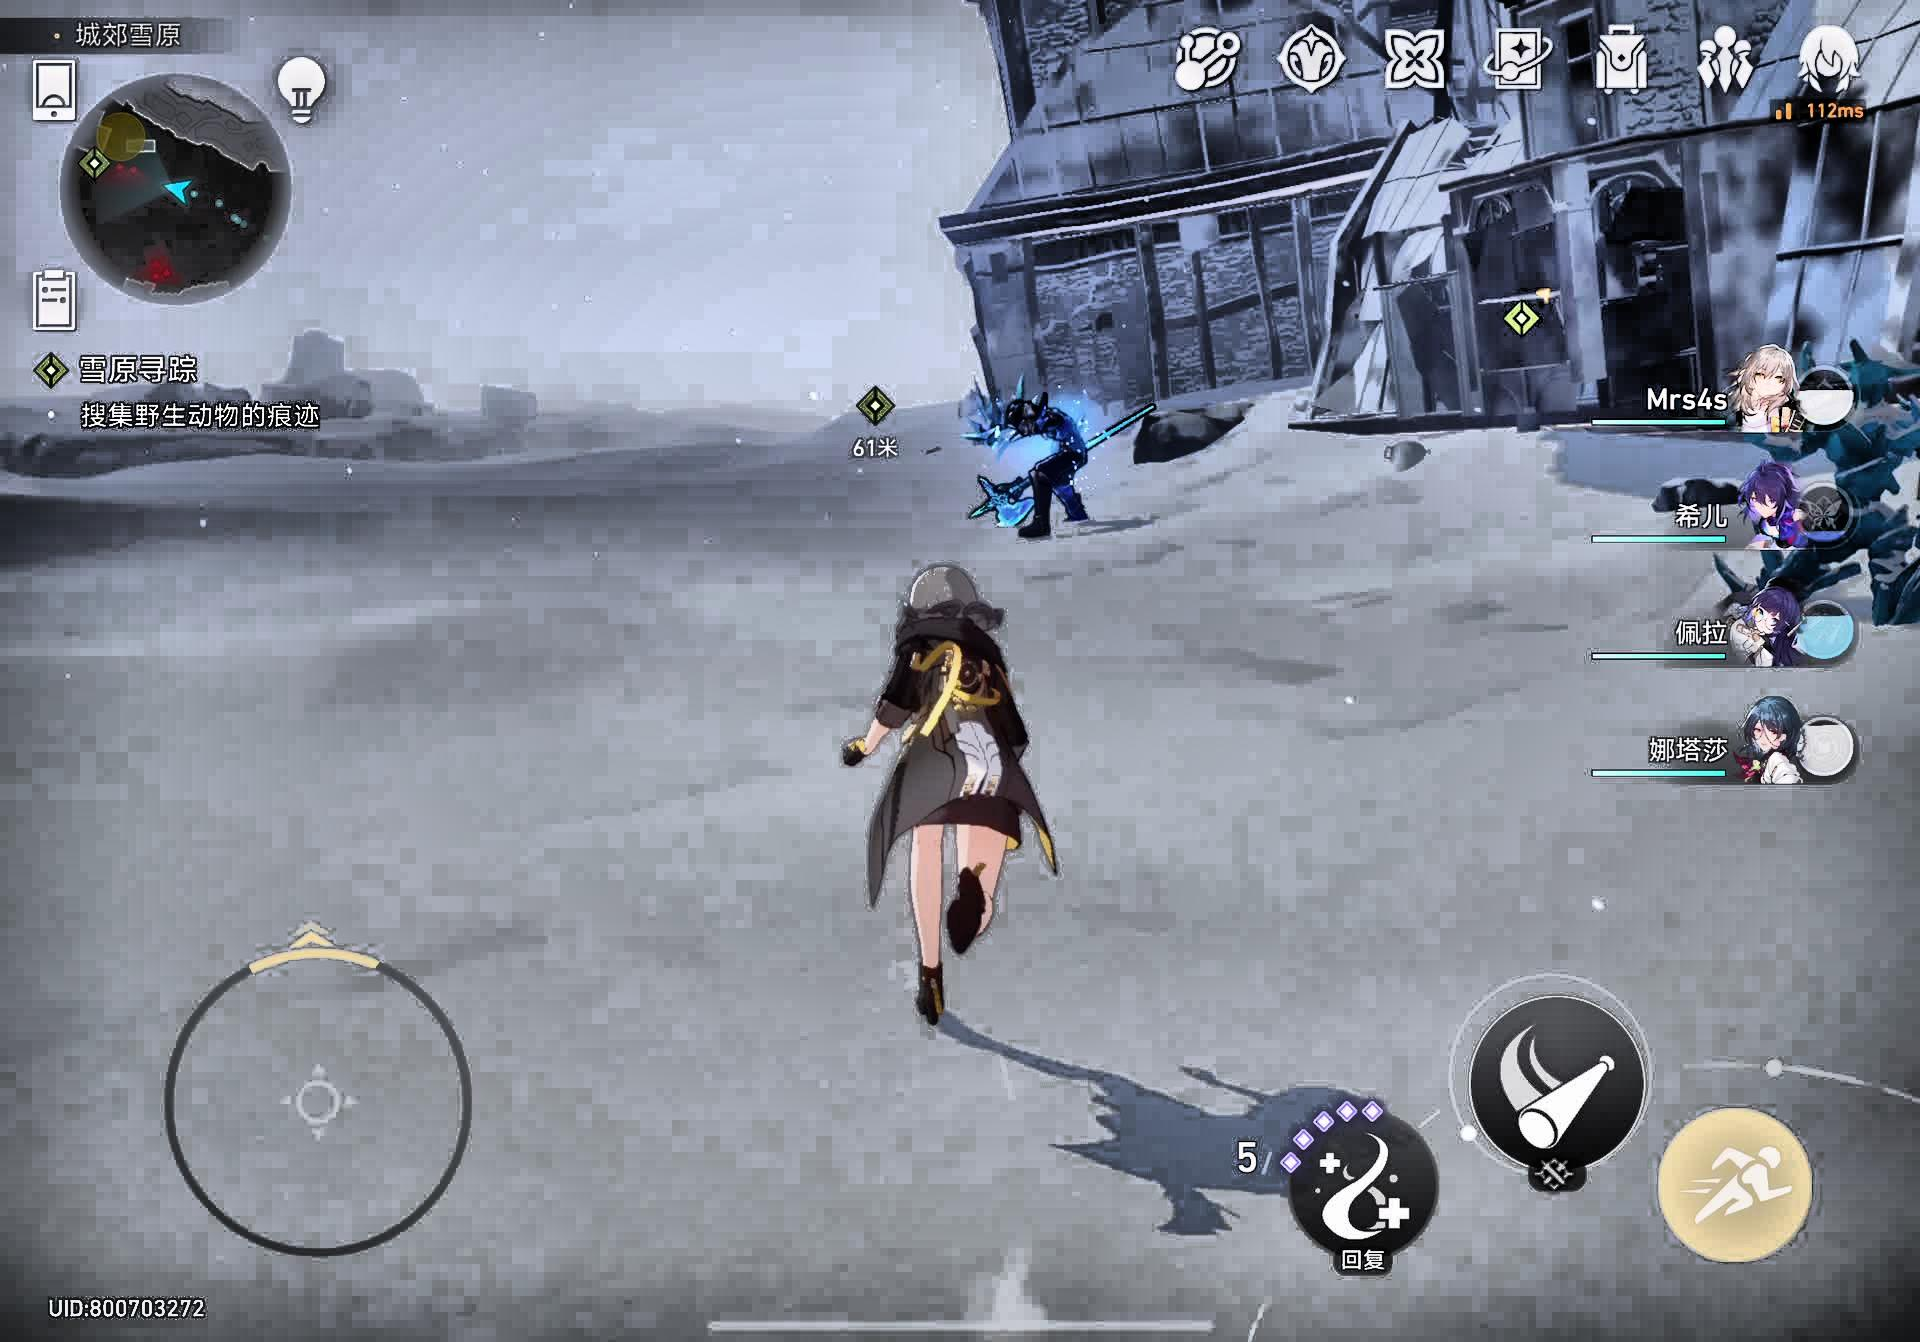Enemy: (956, 381, 1163, 550)
Self: (837, 576, 1081, 1037)
